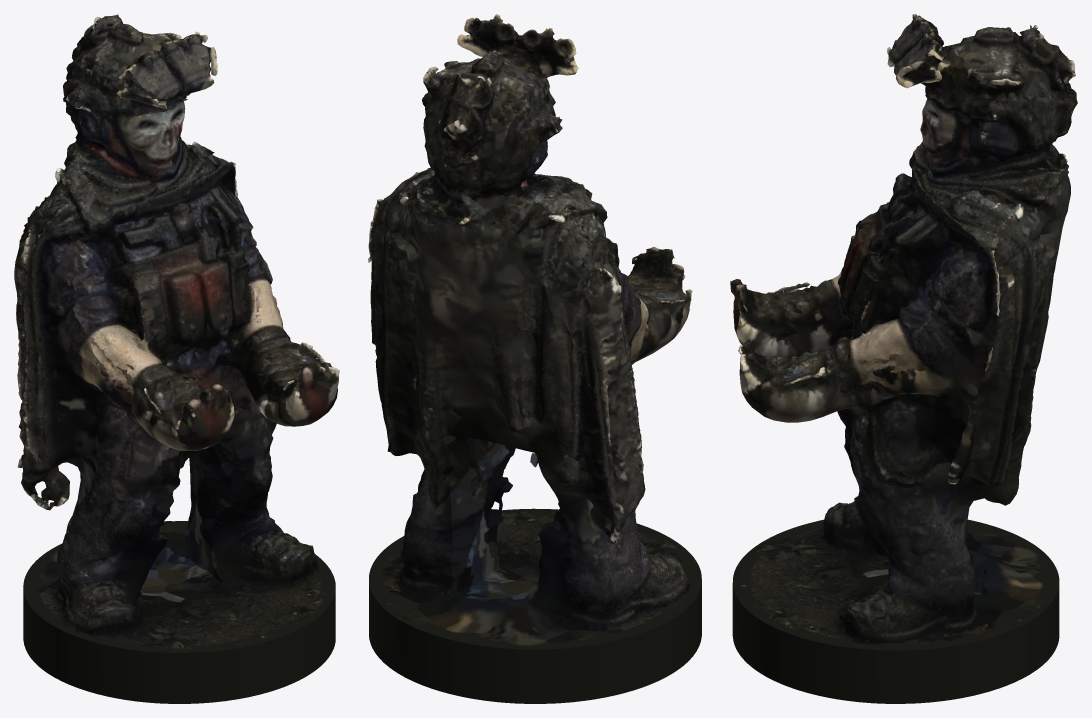
The model's file is cod_holder.glb.
3 views of the same model, side by side, from view 1: azimuth 30°, elevation 25°; view 2: azimuth 150°, elevation 25°; view 3: azimuth 270°, elevation 25° (orthographic). The views are drawn at different scales.
Visible parts, largest first — view 1: geometry_0; view 2: geometry_0; view 3: geometry_0.
Part boxes in pixels (x1=…): geometry_0: x1=14, y1=14, x2=339, y2=703; geometry_0: x1=368, y1=14, x2=701, y2=703; geometry_0: x1=730, y1=14, x2=1077, y2=703.
Bounding box in the file's own units: 0.1015 × 0.21 × 0.108.
1 material, 1 textured.
